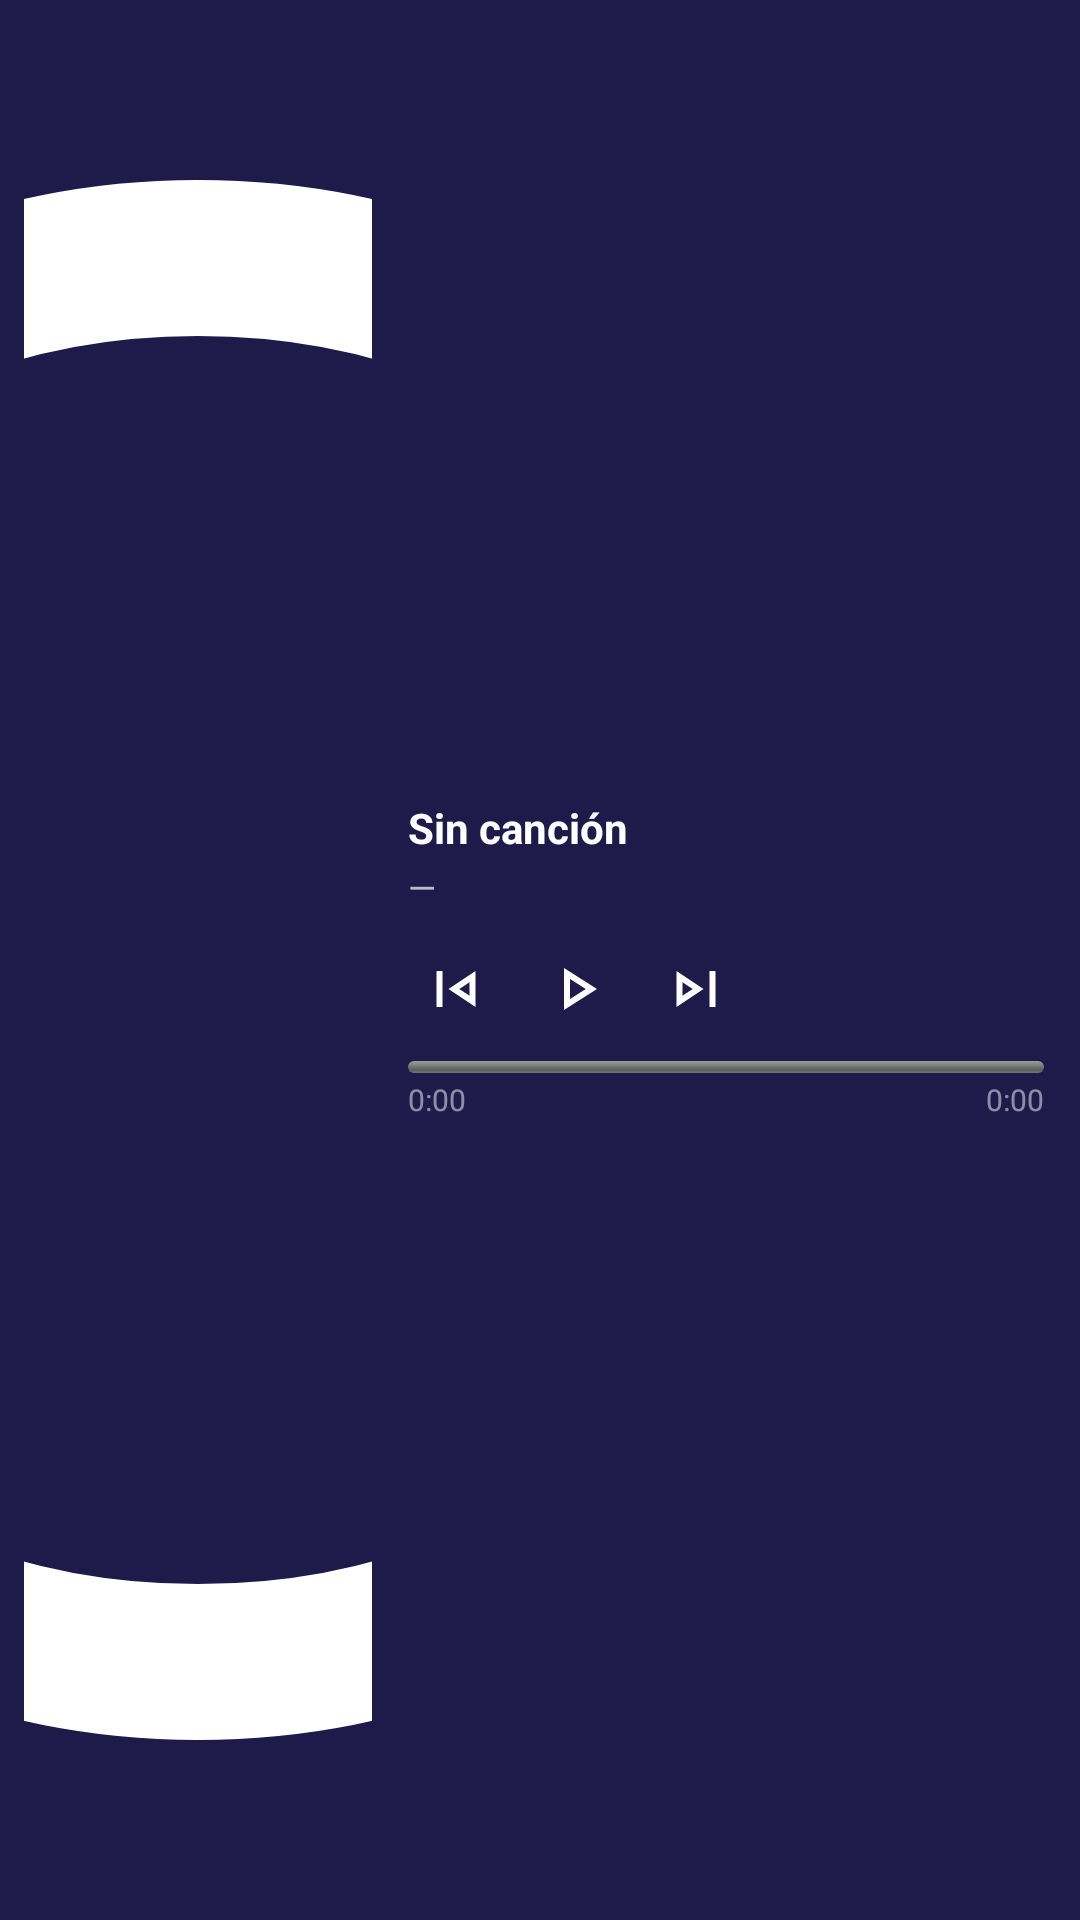

Screen size 1080x1920. Icon name, then its center in pixels as [x,y]:
Anterior: [456,989]
Reproducir: [580,989]
Siguiente: [696,989]
